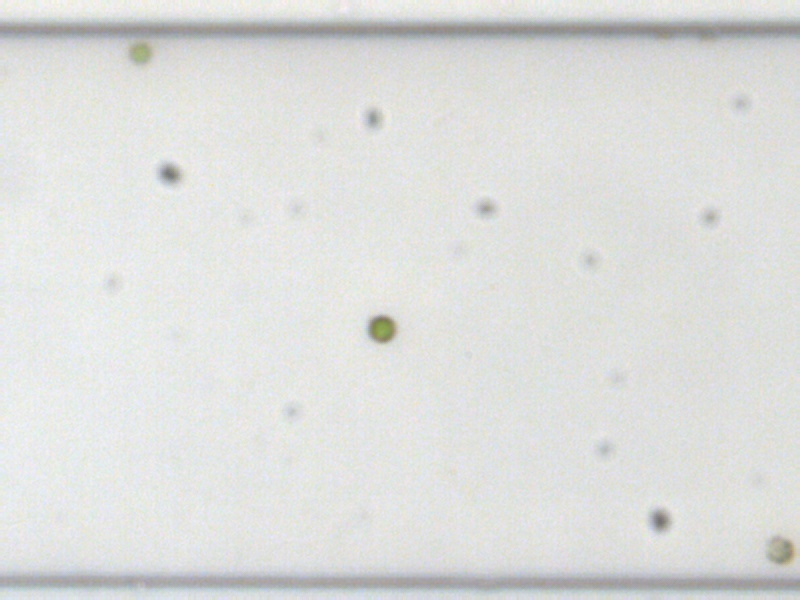Chlorella: (127, 41, 152, 65)
Platymonas: (765, 533, 794, 565), (367, 314, 396, 342)
